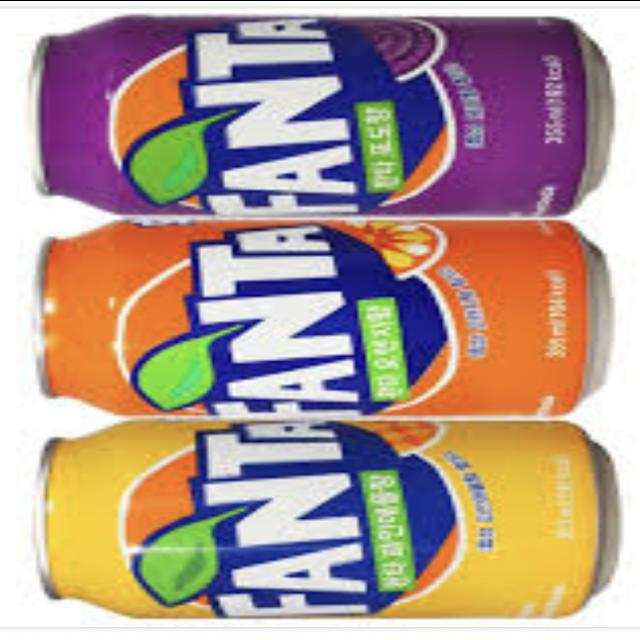can: (7, 7, 621, 223), (16, 212, 614, 426), (18, 412, 624, 622)
